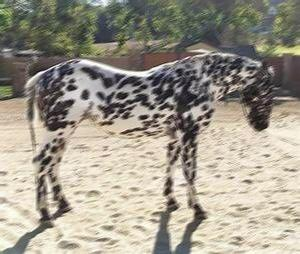horse: (23, 51, 274, 227)
